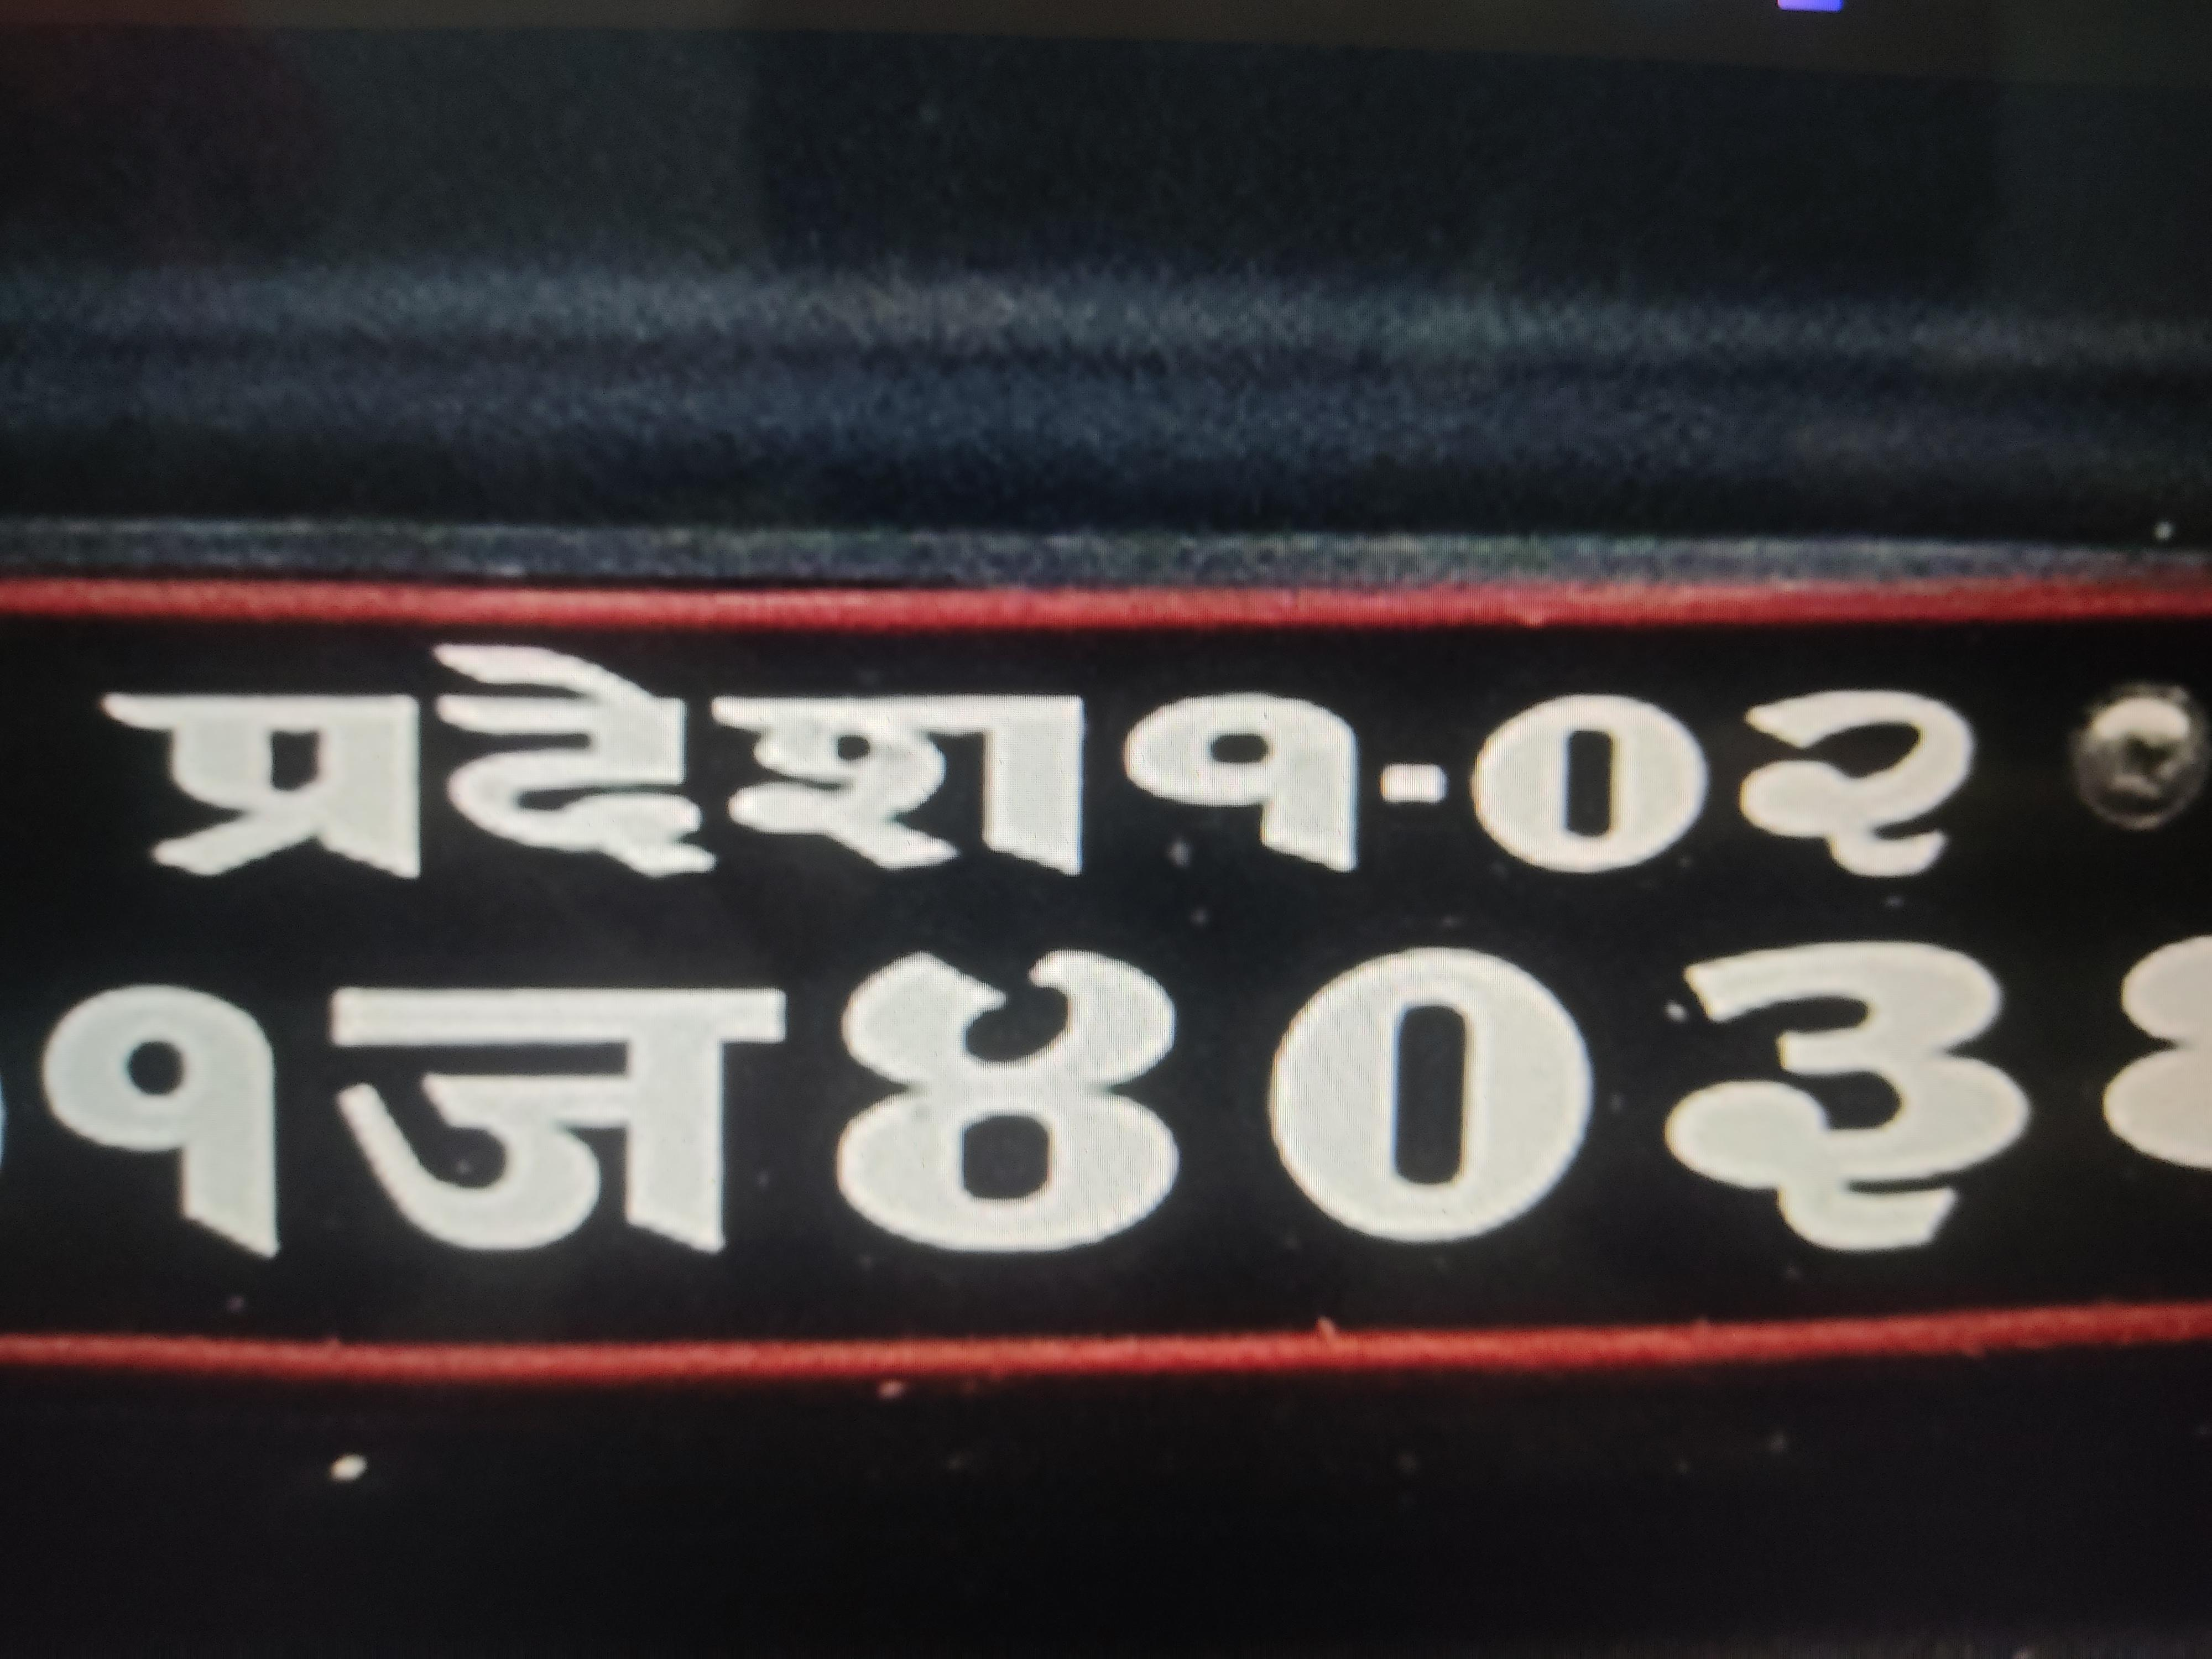0: (1228, 924, 1589, 1286), (1460, 672, 1740, 914)
1: (34, 946, 314, 1261), (1133, 664, 1391, 890)
2: (1731, 672, 2011, 917)
3: (1651, 946, 2068, 1287)
4: (816, 927, 1213, 1249)
ja: (324, 957, 812, 1287)
pradesh: (106, 612, 1128, 928)
